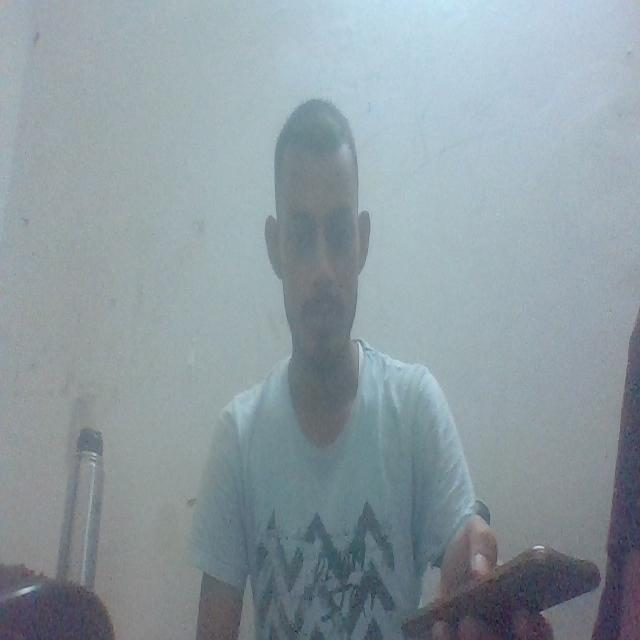Phone: (399, 540, 605, 640)
